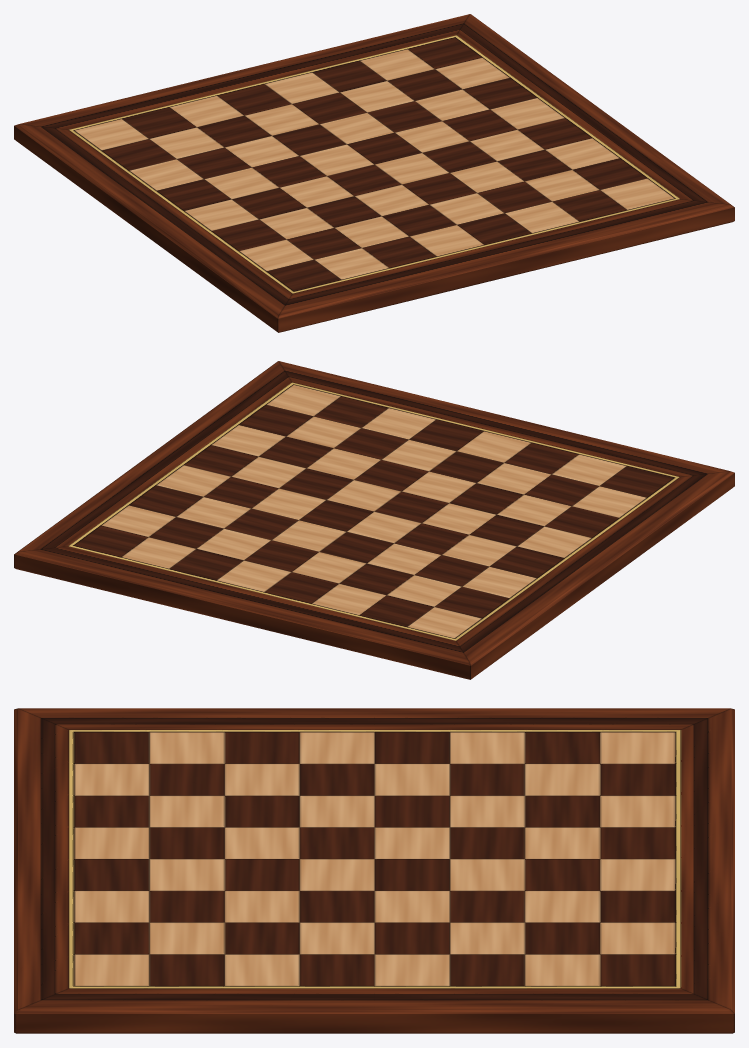
The model's file is chessboard.glb.
3 renders of one model, top to bottom at view 1: azimuth 30°, elevation 25°; view 2: azimuth 150°, elevation 25°; view 3: azimuth 270°, elevation 25°, orthographic. The views are drawn at different scales.
Parts seen in each view (by area): view 1: Chessboard; view 2: Chessboard; view 3: Chessboard.
Part boxes in pixels (x1,y1,x2,y2): Chessboard: [14, 14, 734, 332]; Chessboard: [14, 361, 734, 679]; Chessboard: [14, 708, 734, 1033].
Size of the model in its own units: 0.96 by 0.034 by 0.96.
1 material, 1 textured.
